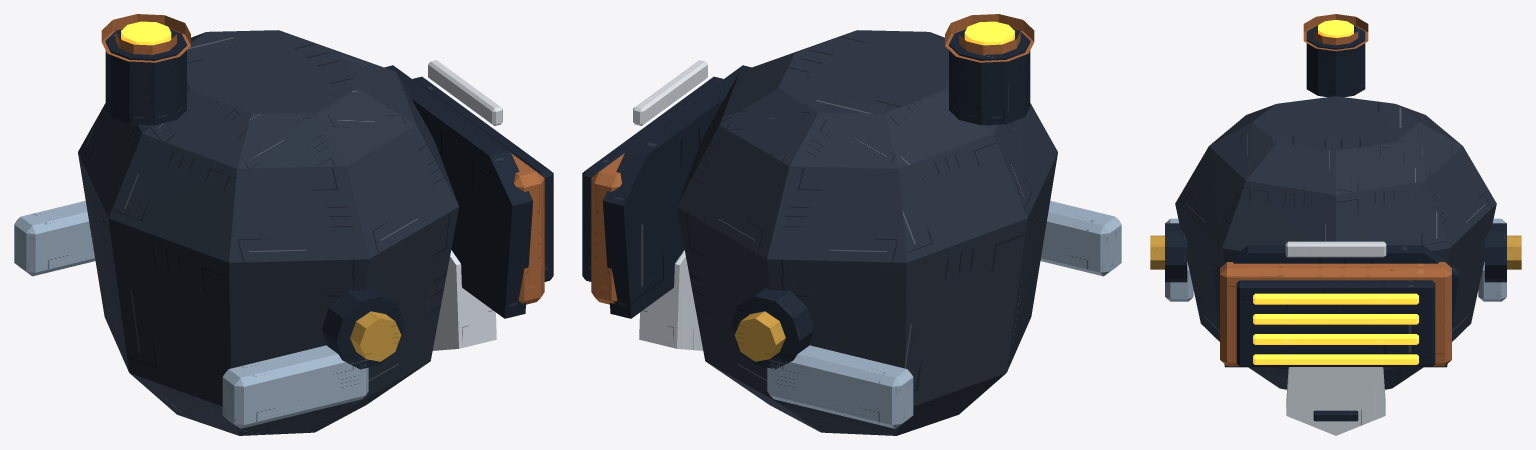
Rendered from demo.glb.
3 views of the same model, side by side, from view 1: azimuth 30°, elevation 25°; view 2: azimuth 150°, elevation 25°; view 3: azimuth 270°, elevation 25° (orthographic). The views are drawn at different scales.
Parts seen in each view (by area): view 1: head; view 2: head; view 3: head.
Part boxes in pixels (box(x1,y1,x2,y2)): head: box(14, 14, 553, 435); head: box(582, 14, 1121, 435); head: box(1150, 14, 1521, 435).
Size of the model in its own units: 0.3215 by 0.306 by 0.351.
8 materials, 8 textured.
